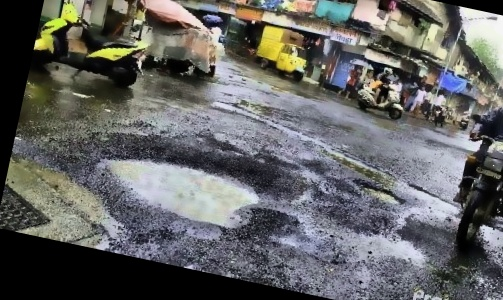pothole: (89, 126, 278, 234), (355, 178, 407, 207)
